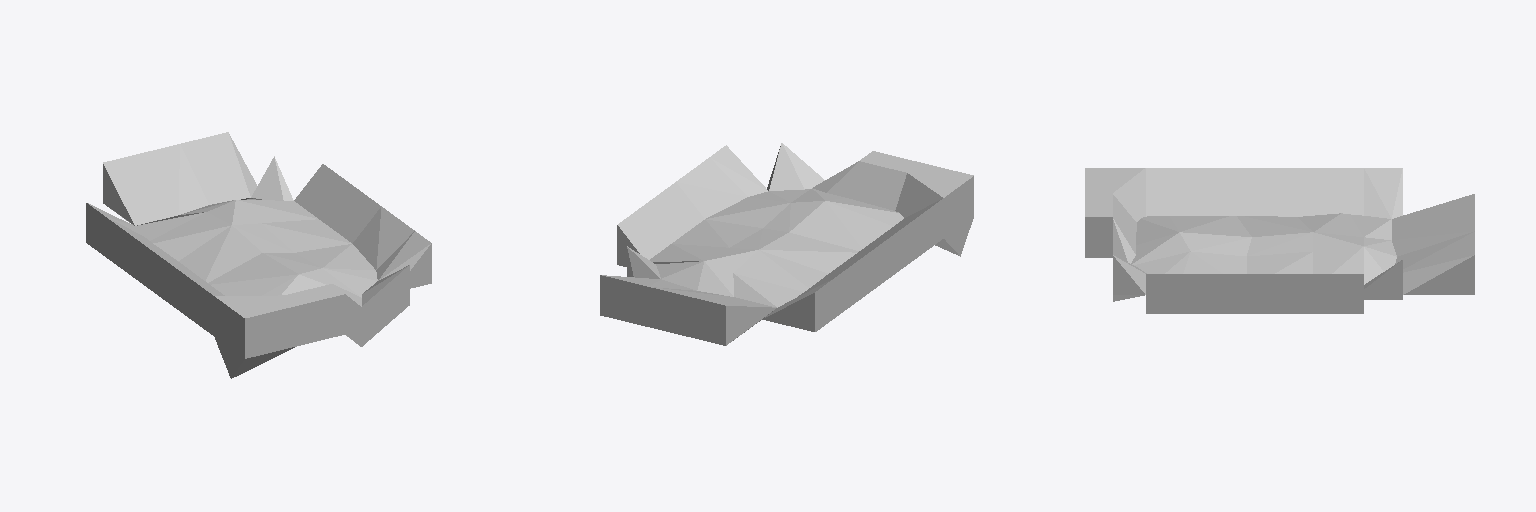
Rendered from dirtstuff.obj.
3 views of the same model, side by side, from view 1: azimuth 30°, elevation 25°; view 2: azimuth 150°, elevation 25°; view 3: azimuth 270°, elevation 25° (orthographic).
Visible parts, largest first — view 1: dirtstuff_entity6_brush1; view 2: dirtstuff_entity6_brush1; view 3: dirtstuff_entity6_brush1.
Boxes of the visible parts, x1=… form: dirtstuff_entity6_brush1: x1=86, y1=132, x2=431, y2=378; dirtstuff_entity6_brush1: x1=600, y1=143, x2=973, y2=345; dirtstuff_entity6_brush1: x1=1085, y1=168, x2=1474, y2=313.
Bounding box in the file's own units: 5.62 × 1.75 × 8.75.